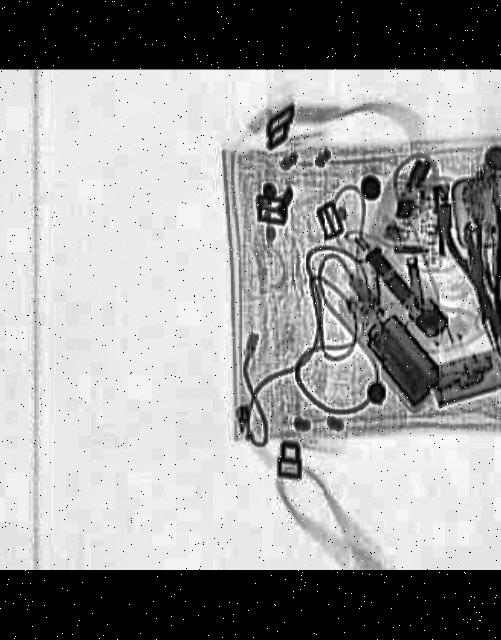Pliers: (432, 195, 501, 364)
